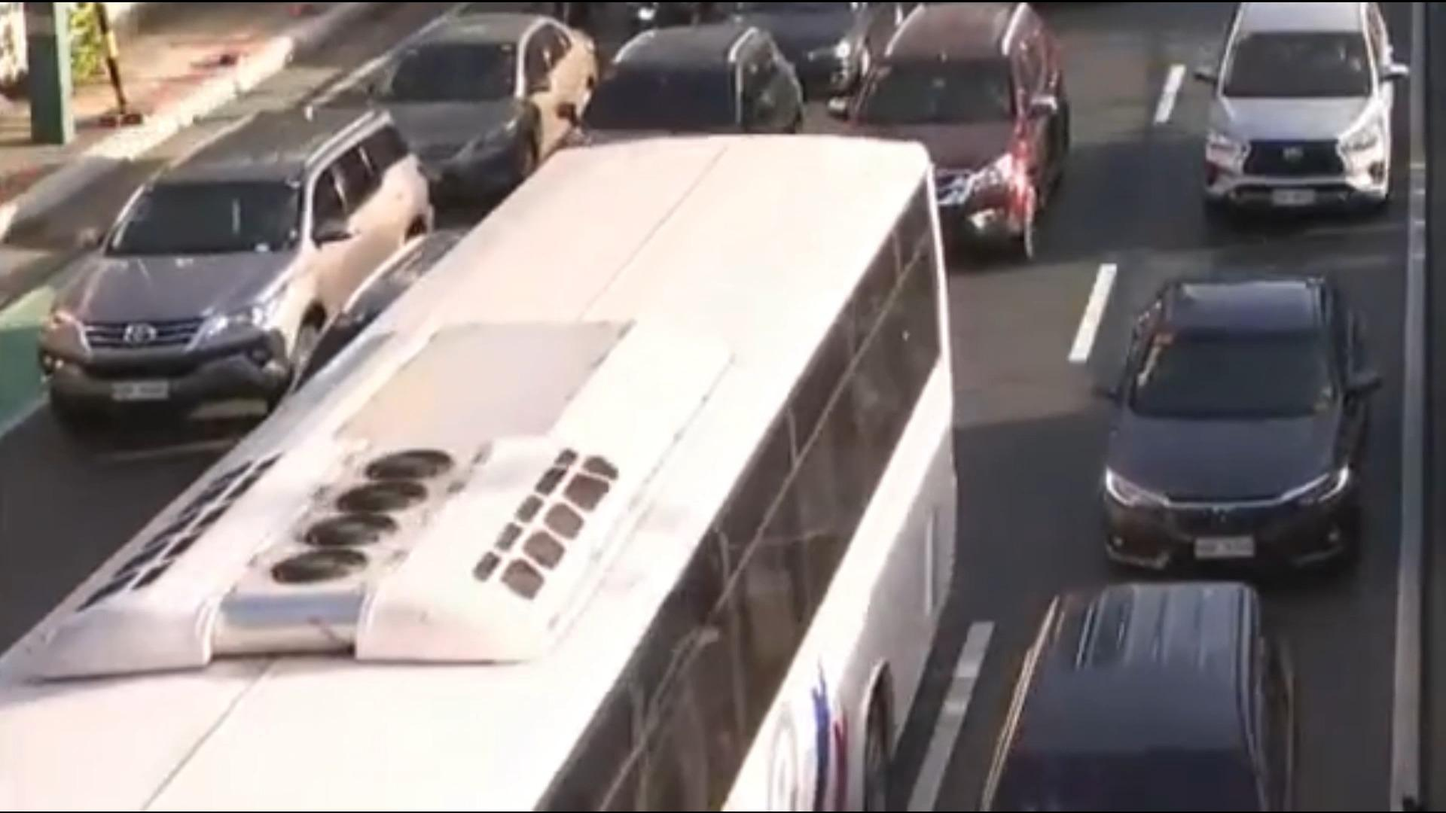Bus: (0, 137, 970, 813)
SUV: (37, 109, 437, 450), (978, 574, 1317, 813), (847, 6, 1075, 235), (1196, 0, 1416, 216), (556, 32, 811, 150)
Sedan: (1088, 279, 1376, 574), (373, 13, 597, 177)
